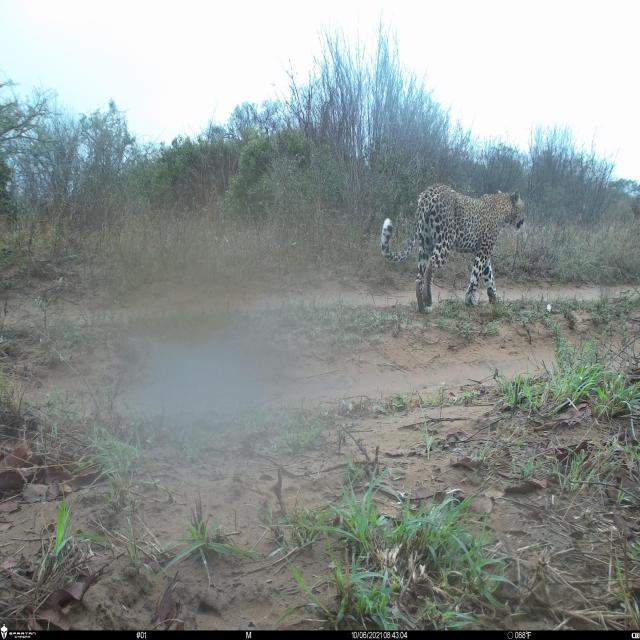Leopard: (378, 184, 528, 320)
